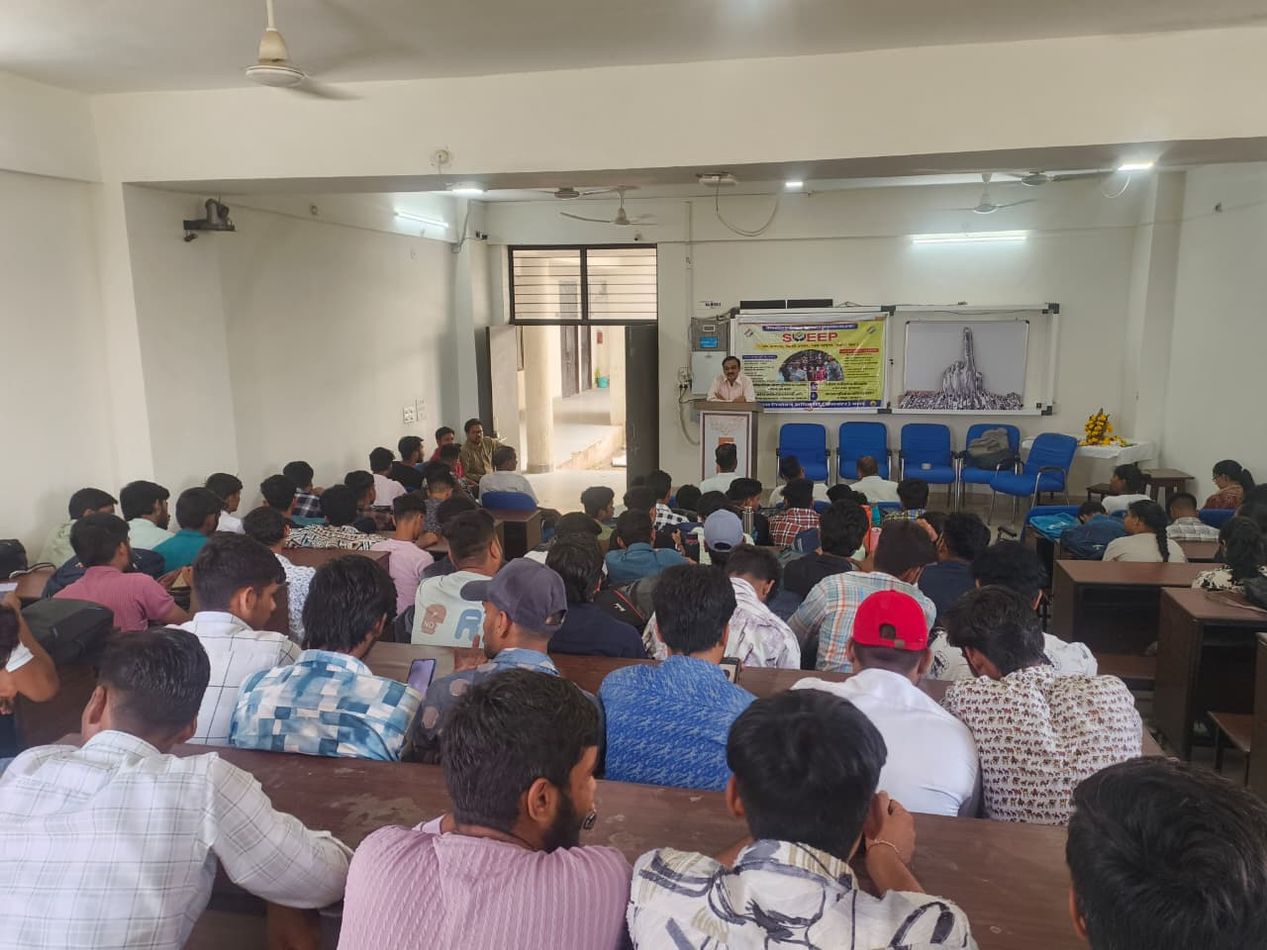machine: (733, 311, 896, 417), (186, 194, 250, 266)
person: (26, 654, 298, 944), (417, 674, 629, 950), (1064, 752, 1267, 947), (728, 736, 910, 950), (822, 576, 980, 816), (436, 513, 632, 659), (185, 543, 301, 755), (303, 564, 404, 750), (677, 536, 804, 667), (57, 522, 175, 629), (261, 464, 393, 539), (119, 484, 222, 566), (450, 418, 537, 494), (700, 349, 760, 406)
seat: (1056, 548, 1258, 655), (945, 830, 1059, 924), (280, 767, 439, 812), (891, 420, 964, 508), (1020, 419, 1075, 507), (836, 414, 894, 494), (903, 423, 954, 505), (775, 418, 832, 479), (1051, 522, 1121, 543)
